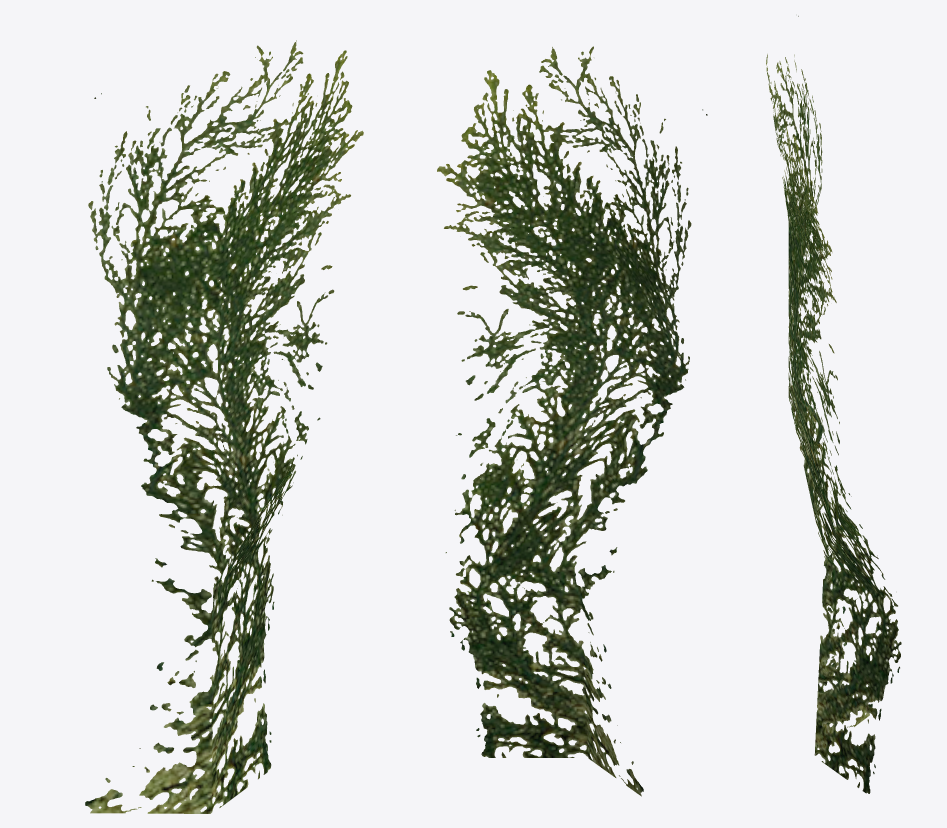
The picture shows the model from 3 angles, left to right: view 1: azimuth 30°, elevation 25°; view 2: azimuth 150°, elevation 25°; view 3: azimuth 270°, elevation 25°; orthographic projection. The views are drawn at different scales.
Parts seen in each view (by area): view 1: Cystoseira.001; view 2: Cystoseira.001; view 3: Cystoseira.001.
Part boxes in pixels (bbox=[...]): Cystoseira.001: bbox=[85, 40, 363, 813]; Cystoseira.001: bbox=[437, 46, 707, 796]; Cystoseira.001: bbox=[766, 16, 901, 793].
Bounding box in the file's own units: 0.4132 × 0.9268 × 0.1952.
1 material, 1 textured.
